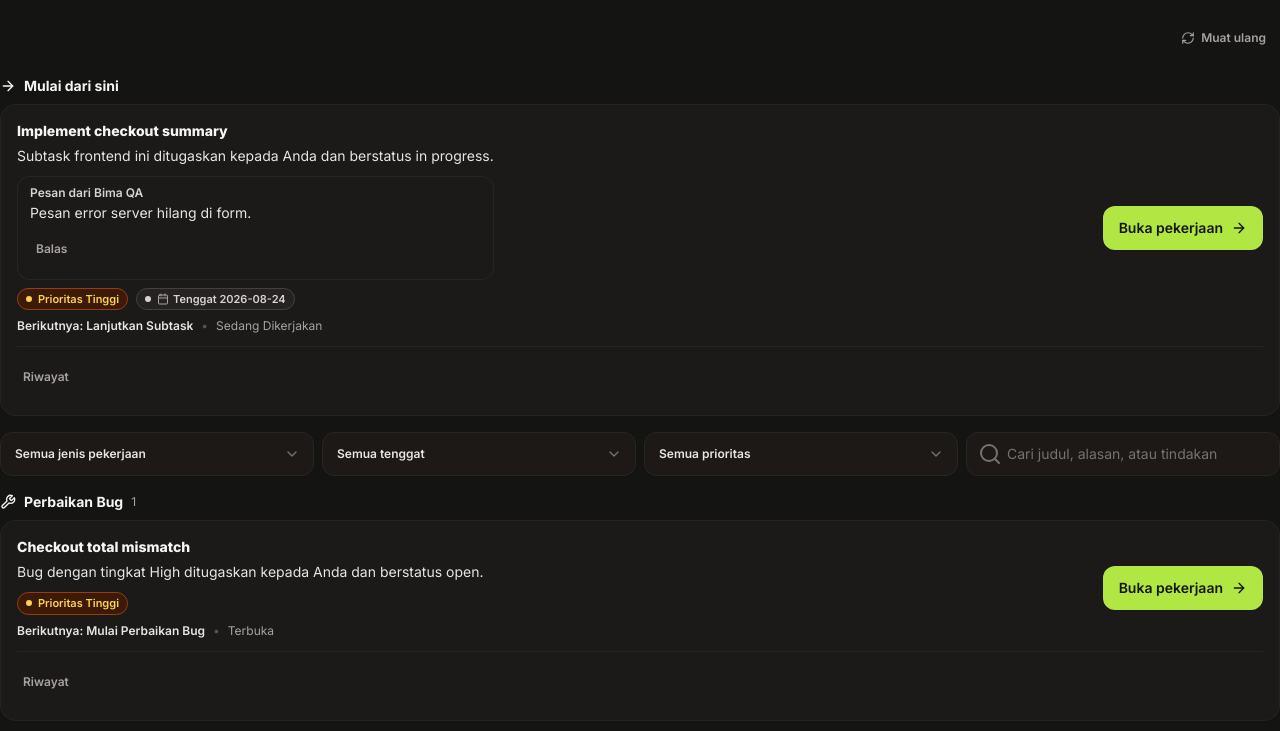
Test: RoleAwareWorkQueuePanel handoff message (AC-4.2, AC-4.4) › keeps the reply box open and shows the error when sending fails
Click the button "Balas": [52, 249] box [22,227,81,271]
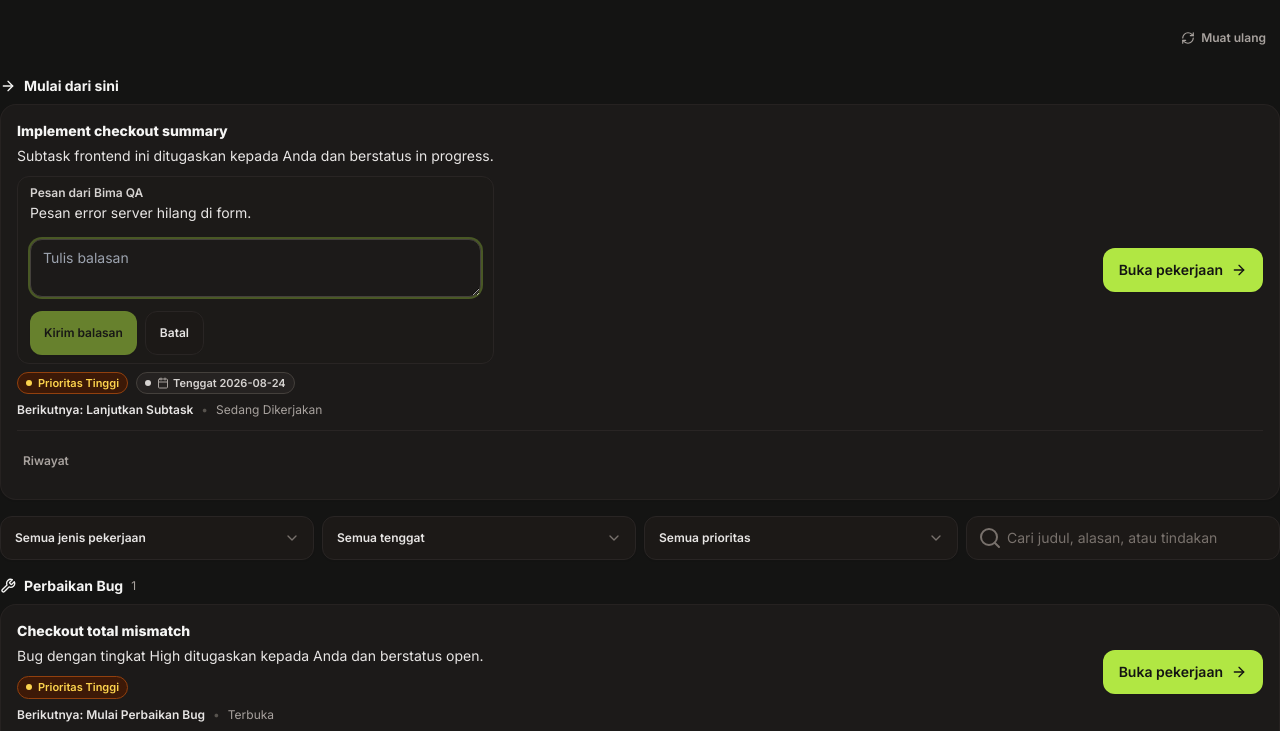
In the text box with placeholder "Tulis balasan": [255, 268] box [30,239,481,297], type "Balasan"
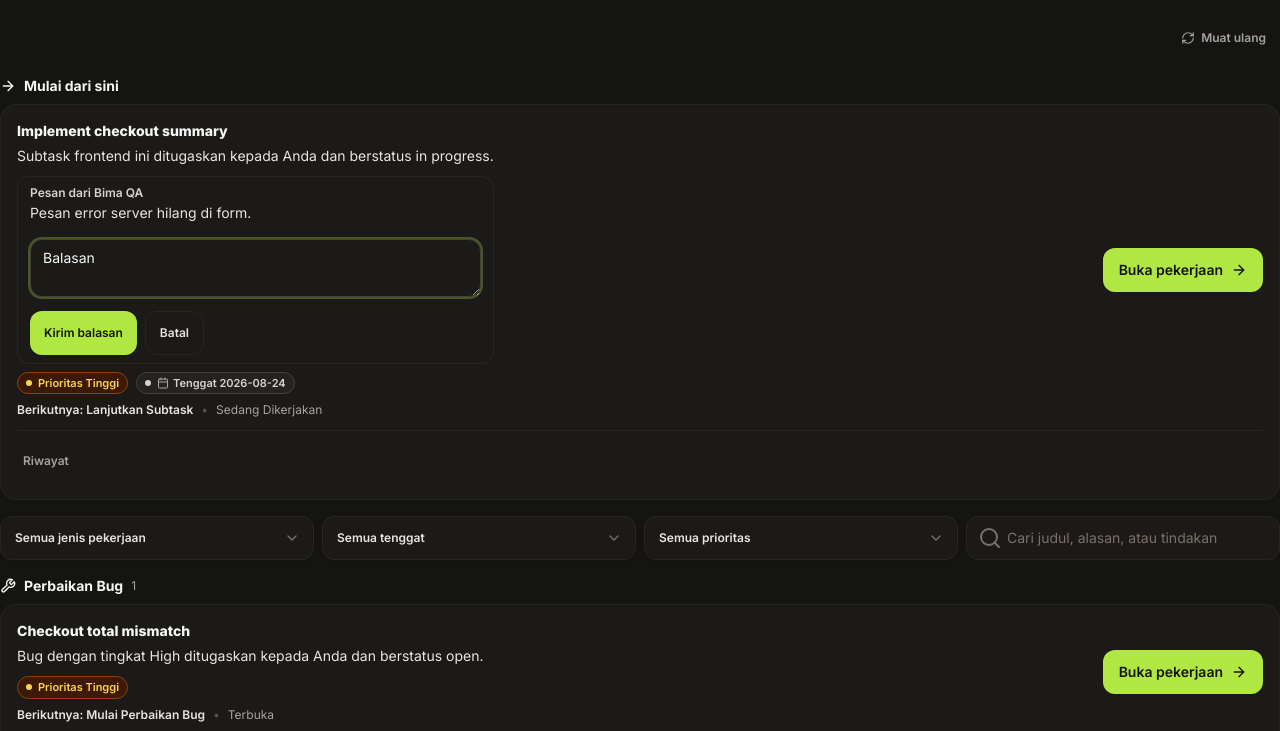
Click the button "Kirim balasan": [83, 333] box [30,311,137,355]
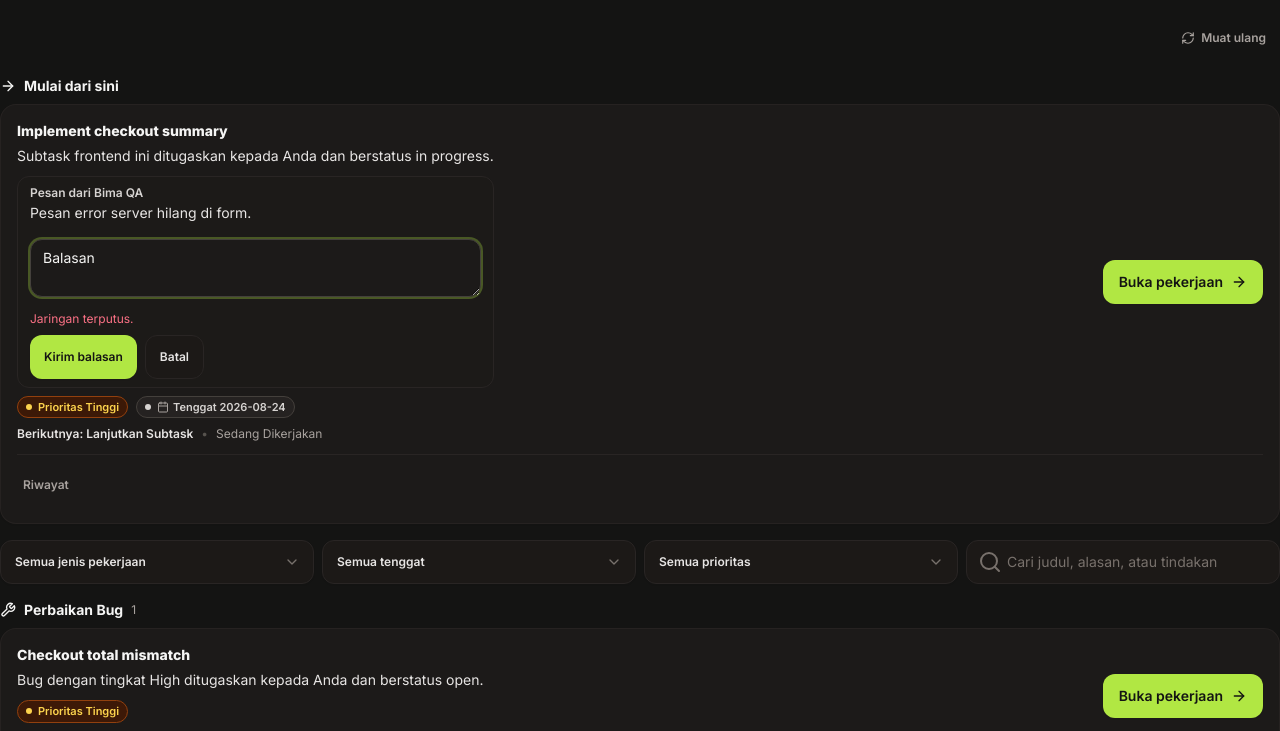
Expected: the button "Kirim balasan" is shown, [30,335,137,379]
Expected: the message reads "Jaringan terputus.", [30,311,134,326]
